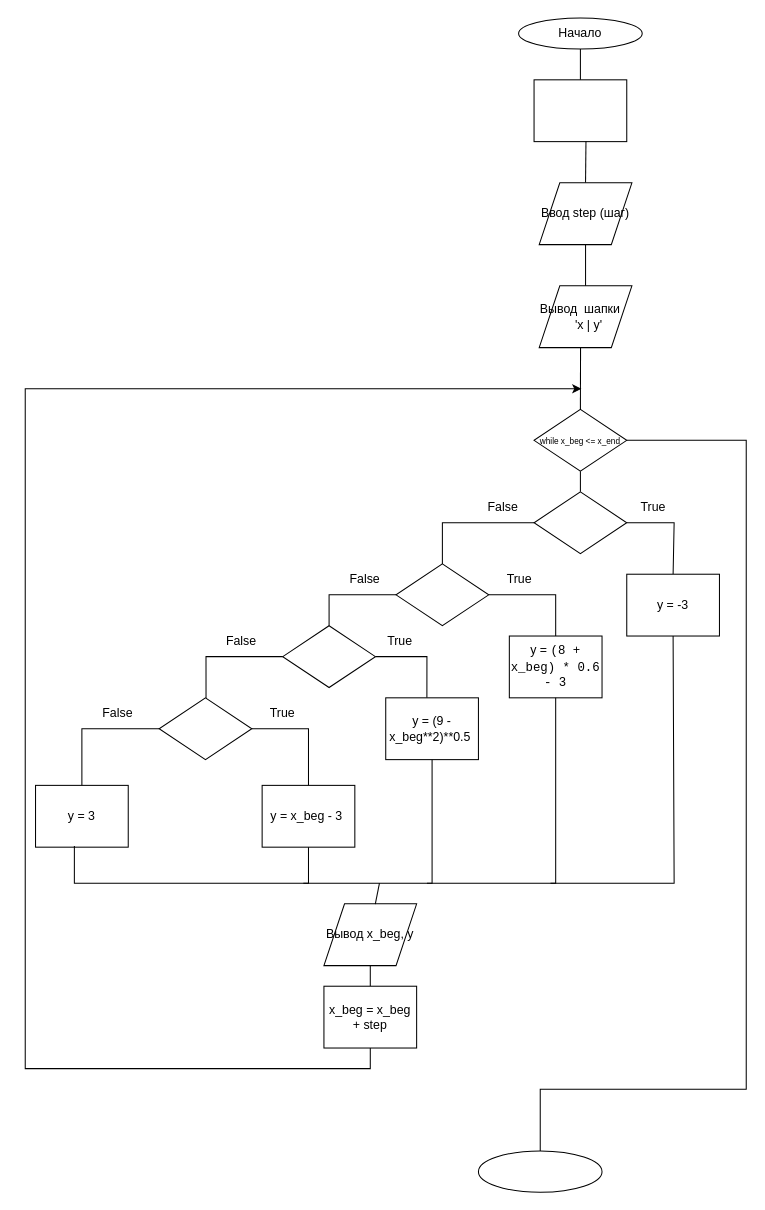
This 765x1210 diagram has some shape labels left out. Each missing label, with the box of its shape:
x_beg < =- 3: (395, 563, 489, 626)
x_beg <= -8: (533, 491, 627, 554)
x_beg <= 3: (282, 625, 375, 688)
x_beg <= 5: (158, 697, 252, 760)
Задаём значения x_beg - нач. точка, x_end - конеч. точка: (533, 79, 627, 142)
Конец: (477, 1150, 602, 1192)
